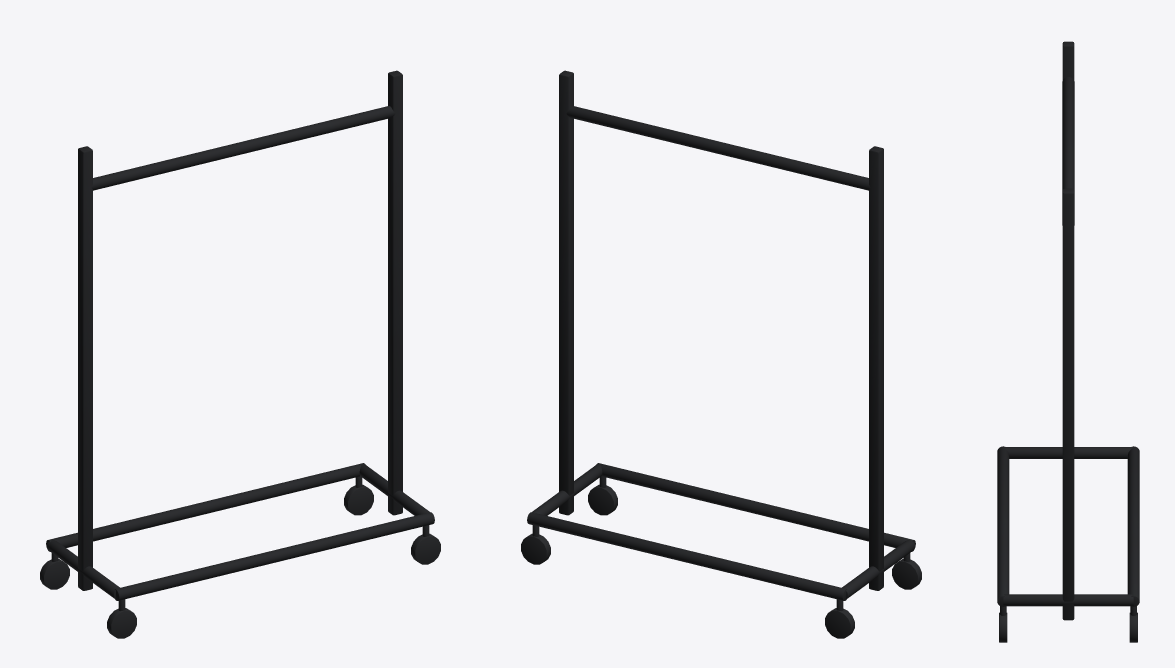
The model's file is pf_display_clothing_rack_t1.glb.
3 views of the same model, side by side, from view 1: azimuth 30°, elevation 25°; view 2: azimuth 150°, elevation 25°; view 3: azimuth 270°, elevation 25° (orthographic). The views are drawn at different scales.
Parts seen in each view (by area): view 1: Upright_L, Upright_R, Welded_Base_Rail_-0.20, Hang_Rail, Welded_Base_Rail_+0.20, Welded_Base_Crossrail_-0.52, Welded_Base_Crossrail_+0.52, Caster_+0.51_+0.20, Caster_+0.51_-0.20, Caster_-0.51_+0.20, Caster_-0.51_-0.20; view 2: Upright_L, Upright_R, Welded_Base_Rail_+0.20, Hang_Rail, Welded_Base_Rail_-0.20, Welded_Base_Crossrail_-0.52, Welded_Base_Crossrail_+0.52, Caster_+0.51_-0.20, Caster_+0.51_+0.20, Caster_-0.51_-0.20, Caster_-0.51_+0.20; view 3: Upright_R, Welded_Base_Rail_+0.20, Welded_Base_Rail_-0.20, Welded_Base_Crossrail_+0.52, Hang_Rail, Welded_Base_Crossrail_-0.52, Upright_L.
Part boxes in pixels (x1,y1,x2,y2): Upright_L: (78,146,92,590); Upright_R: (388,70,402,515); Welded_Base_Rail_-0.20: (115,512,434,600); Hang_Rail: (91,106,395,190); Welded_Base_Rail_+0.20: (46,463,365,551); Welded_Base_Crossrail_-0.52: (47,540,119,599); Welded_Base_Crossrail_+0.52: (359,464,429,515); Caster_+0.51_+0.20: (344,484,373,515); Caster_+0.51_-0.20: (411,533,440,564); Caster_-0.51_+0.20: (40,558,69,589); Caster_-0.51_-0.20: (107,608,136,638); Upright_L: (869,146,883,590); Upright_R: (559,70,573,515); Welded_Base_Rail_+0.20: (527,512,846,600); Hang_Rail: (566,106,870,190); Welded_Base_Rail_-0.20: (596,463,915,551); Welded_Base_Crossrail_-0.52: (842,540,914,599); Welded_Base_Crossrail_+0.52: (532,464,602,515); Caster_+0.51_-0.20: (588,484,617,515); Caster_+0.51_+0.20: (521,533,550,564); Caster_-0.51_-0.20: (892,558,921,589); Caster_-0.51_+0.20: (825,608,854,638); Upright_R: (1062,188,1074,620); Welded_Base_Rail_+0.20: (1127,446,1139,606); Welded_Base_Rail_-0.20: (997,446,1009,606); Welded_Base_Crossrail_+0.52: (1003,594,1133,606); Hang_Rail: (1062,77,1074,225); Welded_Base_Crossrail_-0.52: (1003,447,1133,458); Upright_L: (1062,41,1074,79).
Size of the model in its own units: 1.2 by 1.55 by 0.55.
Materials: 3 (1 with a texture image).
